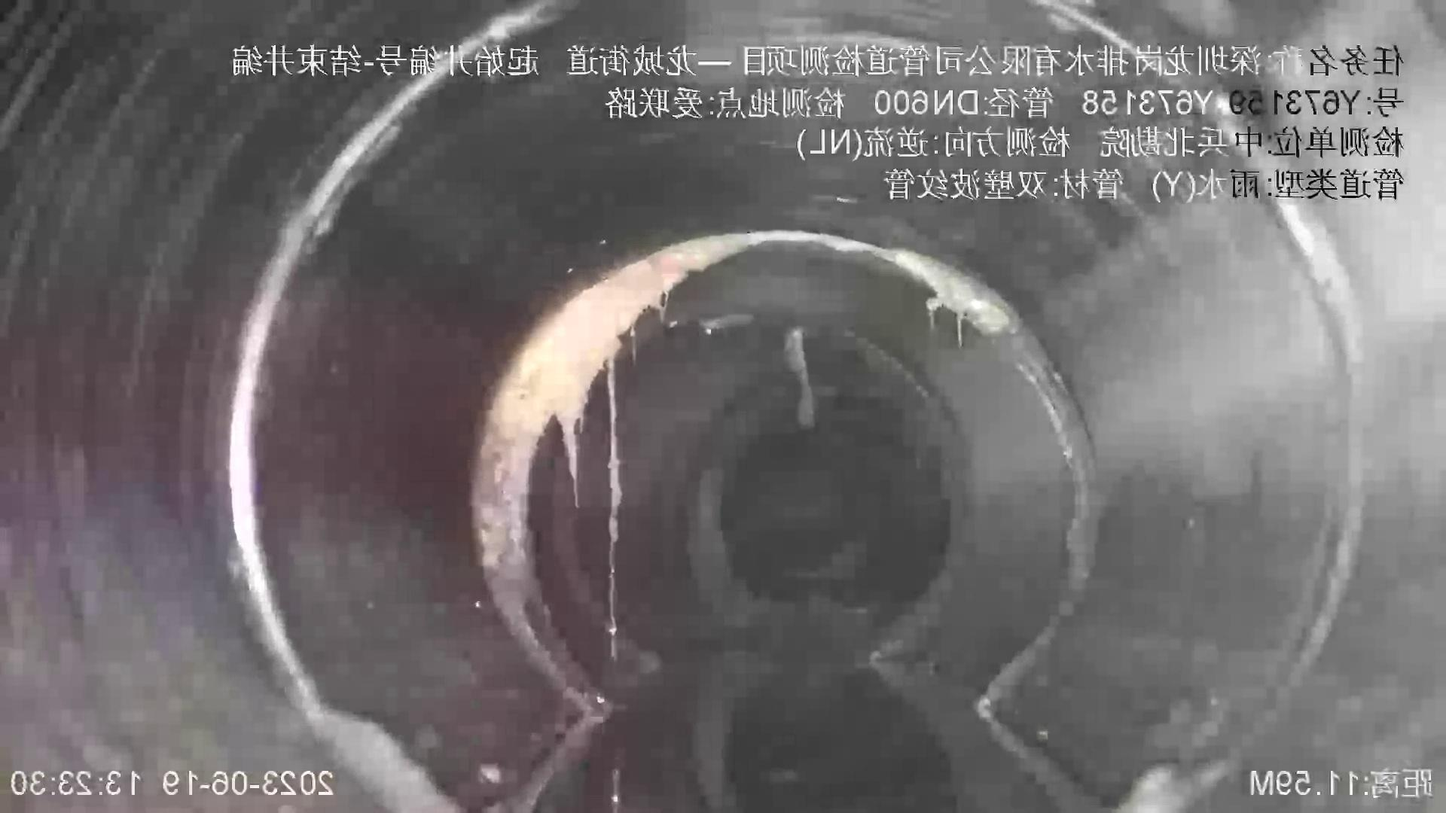JKCL: (472, 230, 1021, 723)
